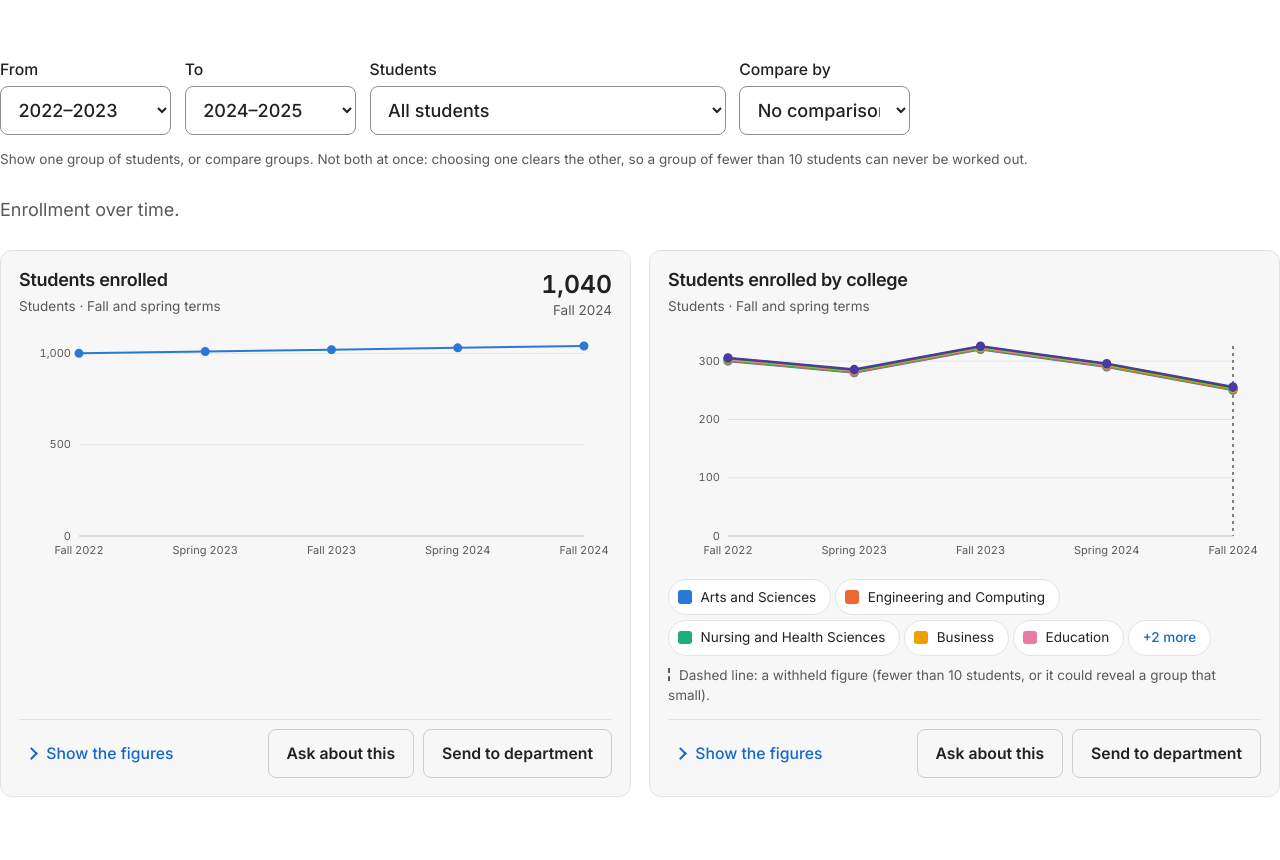
Scenario: Data page cards › gives every card the same rows, with the actions in the footer
Expected: the picture named "by college" is shown, [668,334,1261,566]
# The figures open under the actions.
Click the button "Show the figures" below "500" at [101, 753], box [19,729,182,778]
(page scrolled)
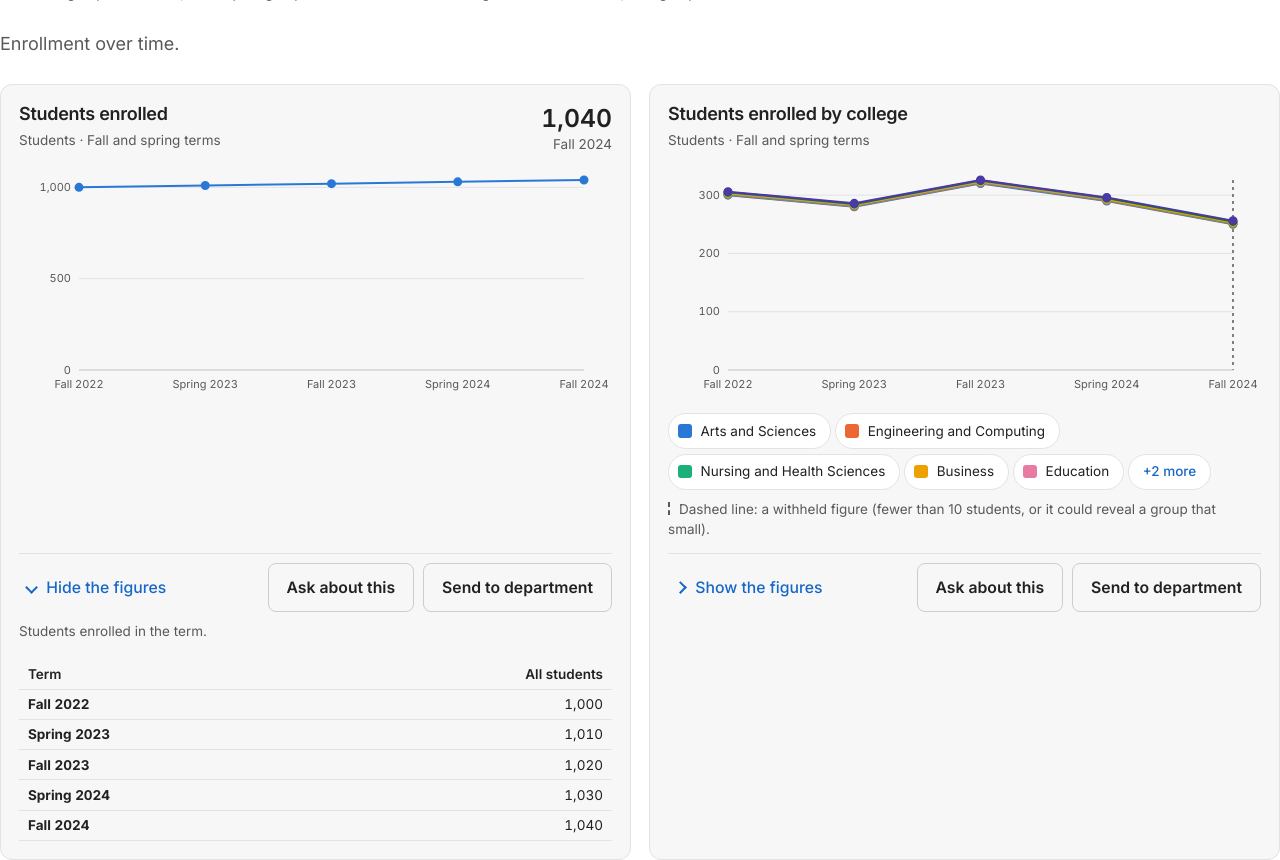
Expected: the button named "Show the figures" is expanded, [19,563,175,612]
Expected: the table is shown, [19,659,612,841]
